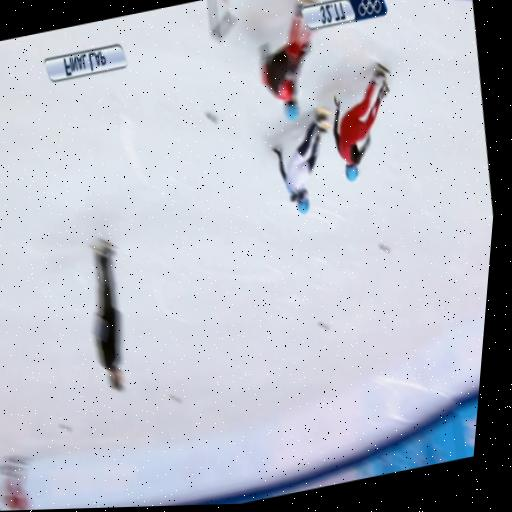Skater: (334, 64, 389, 180), (273, 108, 331, 213), (261, 0, 312, 119)
